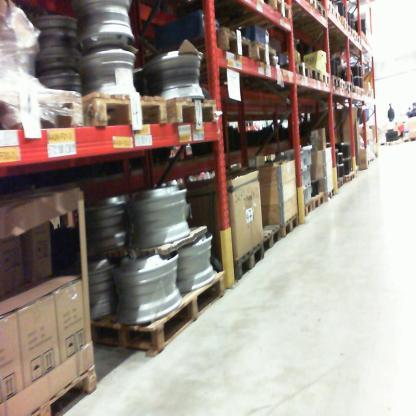pallets: (215, 21, 370, 101), (91, 270, 226, 357), (77, 90, 216, 130), (230, 210, 304, 284), (0, 364, 97, 415), (0, 83, 89, 138), (296, 0, 363, 48), (238, 0, 298, 25), (327, 168, 357, 199)
